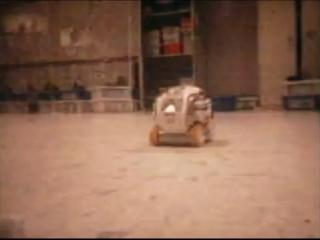cozmo: (148, 84, 215, 148)
